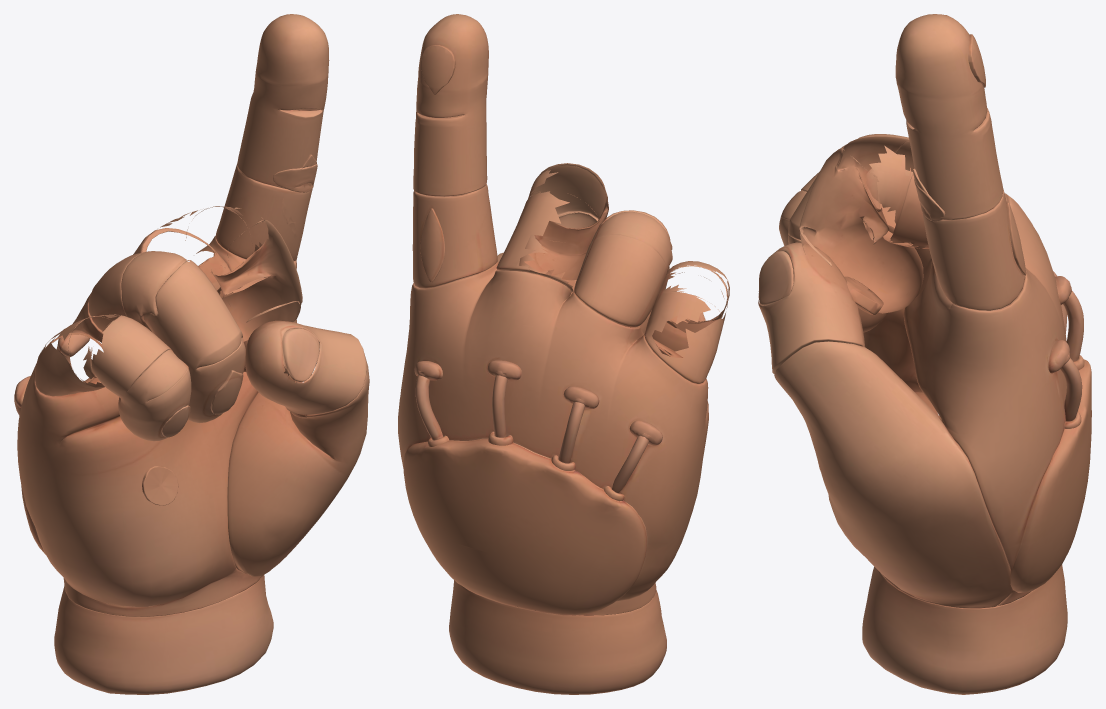
Rendered from toonstudio_pointing.glb.
3 views of the same model, side by side, from view 1: azimuth 30°, elevation 25°; view 2: azimuth 150°, elevation 25°; view 3: azimuth 270°, elevation 25° (orthographic). The views are drawn at different scales.
Parts seen in each view (by area): view 1: fad283dd_3ba2_4e0e_8924_2cbbd50accaf; view 2: fad283dd_3ba2_4e0e_8924_2cbbd50accaf; view 3: fad283dd_3ba2_4e0e_8924_2cbbd50accaf.
Boxes of the visible parts, box(x1,y1,x2,y2) form: fad283dd_3ba2_4e0e_8924_2cbbd50accaf: box(14, 14, 369, 694); fad283dd_3ba2_4e0e_8924_2cbbd50accaf: box(398, 14, 729, 694); fad283dd_3ba2_4e0e_8924_2cbbd50accaf: box(758, 14, 1091, 694).
Size of the model in its own units: 0.1119 by 0.22 by 0.0964.
Materials: 1 (1 with a texture image).
